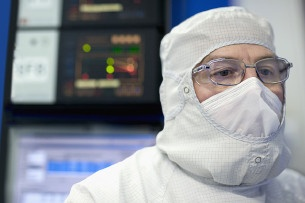Mask: (189, 50, 305, 165)
